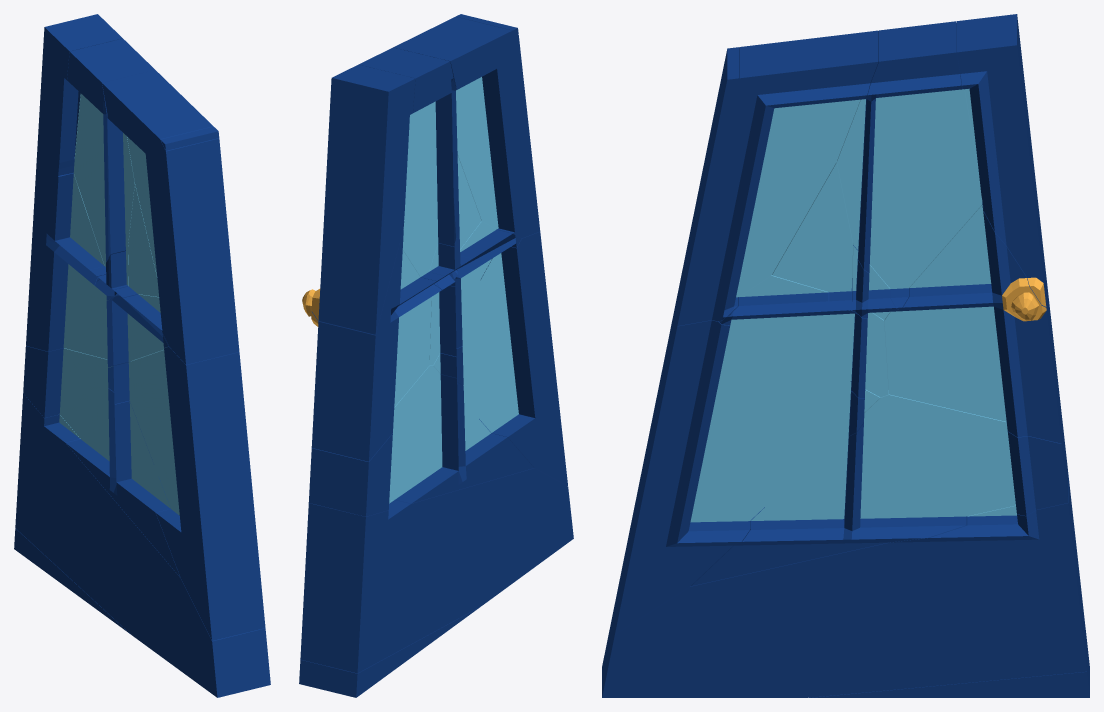
File: Portes_Gauche_Fracture.fbx
3 renders of one model, left to right at view 1: azimuth 30°, elevation 25°; view 2: azimuth 150°, elevation 25°; view 3: azimuth 270°, elevation 25°, orthographic. The views are drawn at different scales.
Parts seen in each view (by area): view 1: Porte.Gauche_cell.011, Porte.Gauche_cell.008, Porte.Gauche_cell.006, Porte.Gauche_cell, Porte.Gauche_cell.002, Porte.Gauche_cell.001, Porte.Gauche_cell.009, Porte.Gauche_cell.005, Porte.Gauche_cell.010, Porte.Gauche_cell.007, Porte.Gauche_cell.003, Porte.Gauche_cell.004; view 2: Porte.Gauche_cell.008, Porte.Gauche_cell.009, Porte.Gauche_cell.011, Porte.Gauche_cell, Porte.Gauche_cell.006, Porte.Gauche_cell.002, Porte.Gauche_cell.001, Porte.Gauche_cell.005, Porte.Gauche_cell.007, Porte.Gauche_cell.010, Porte.Gauche_cell.003; view 3: Porte.Gauche_cell.008, Porte.Gauche_cell.011, Porte.Gauche_cell, Porte.Gauche_cell.006, Porte.Gauche_cell.001, Porte.Gauche_cell.002, Porte.Gauche_cell.009, Porte.Gauche_cell.005, Porte.Gauche_cell.010, Porte.Gauche_cell.007, Porte.Gauche_cell.003.
Boxes of the visible parts, <box> form: Porte.Gauche_cell.011: <box>108,347,265,640</box>; Porte.Gauche_cell.008: <box>15,393,270,697</box>; Porte.Gauche_cell.006: <box>102,70,239,364</box>; Porte.Gauche_cell: <box>23,346,179,576</box>; Porte.Gauche_cell.002: <box>26,173,107,359</box>; Porte.Gauche_cell.001: <box>58,38,154,281</box>; Porte.Gauche_cell.009: <box>32,14,122,235</box>; Porte.Gauche_cell.005: <box>106,294,168,367</box>; Porte.Gauche_cell.010: <box>114,184,158,297</box>; Porte.Gauche_cell.007: <box>14,528,130,634</box>; Porte.Gauche_cell.003: <box>94,248,128,300</box>; Porte.Gauche_cell.004: <box>160,126,219,150</box>; Porte.Gauche_cell.008: <box>300,468,573,673</box>; Porte.Gauche_cell.009: <box>311,64,415,334</box>; Porte.Gauche_cell.011: <box>433,231,567,485</box>; Porte.Gauche_cell: <box>308,365,533,516</box>; Porte.Gauche_cell.006: <box>393,16,540,238</box>; Porte.Gauche_cell.002: <box>302,230,441,461</box>; Porte.Gauche_cell.001: <box>359,47,459,286</box>; Porte.Gauche_cell.005: <box>429,221,521,365</box>; Porte.Gauche_cell.007: <box>299,606,480,697</box>; Porte.Gauche_cell.010: <box>457,155,481,270</box>; Porte.Gauche_cell.003: <box>429,232,461,297</box>; Porte.Gauche_cell.008: <box>602,472,1086,697</box>; Porte.Gauche_cell.011: <box>615,296,880,633</box>; Porte.Gauche_cell: <box>691,390,1067,586</box>; Porte.Gauche_cell.006: <box>677,30,878,325</box>; Porte.Gauche_cell.001: <box>837,21,983,309</box>; Porte.Gauche_cell.002: <box>884,205,1061,443</box>; Porte.Gauche_cell.009: <box>957,14,1046,306</box>; Porte.Gauche_cell.005: <box>719,275,888,397</box>; Porte.Gauche_cell.010: <box>772,161,852,310</box>; Porte.Gauche_cell.007: <box>809,642,1089,697</box>; Porte.Gauche_cell.003: <box>852,243,898,319</box>.
Size of the model in its own units: 55.24 by 377 by 255.
